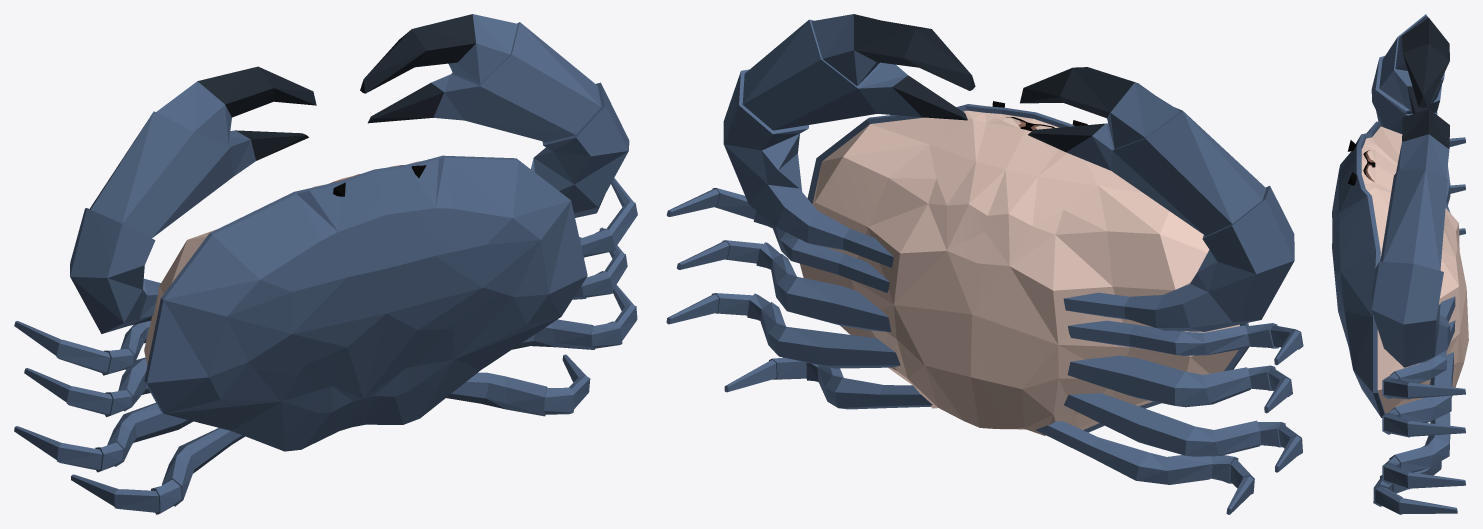
The model's file is RockCrabDrip.glb.
3 views of the same model, side by side, from view 1: azimuth 30°, elevation 25°; view 2: azimuth 150°, elevation 25°; view 3: azimuth 270°, elevation 25° (orthographic). The views are drawn at different scales.
Parts seen in each view (by area): view 1: RockCrabDrip; view 2: RockCrabDrip; view 3: RockCrabDrip.
Boxes of the visible parts, x1,y1,x2,y2 form: RockCrabDrip: [14, 14, 637, 514]; RockCrabDrip: [666, 14, 1303, 514]; RockCrabDrip: [1332, 14, 1468, 514].
Size of the model in its own units: 0.3054 by 0.1929 by 0.0697.
Materials: 1 (1 with a texture image).
